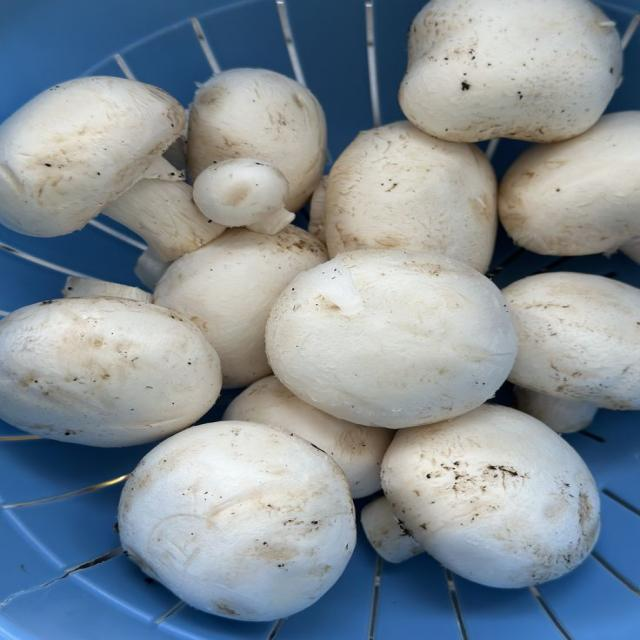champignon mushrooms: (119, 421, 355, 620), (267, 250, 516, 428), (0, 77, 223, 260), (382, 405, 599, 587), (0, 298, 221, 446), (400, 0, 622, 142), (154, 226, 326, 387), (325, 122, 497, 272), (223, 376, 393, 497), (500, 111, 639, 255), (187, 69, 326, 211), (503, 273, 639, 409), (194, 158, 294, 234), (360, 496, 424, 563), (515, 387, 597, 433), (62, 276, 152, 302), (134, 249, 170, 290), (308, 176, 327, 243), (620, 238, 639, 264)
